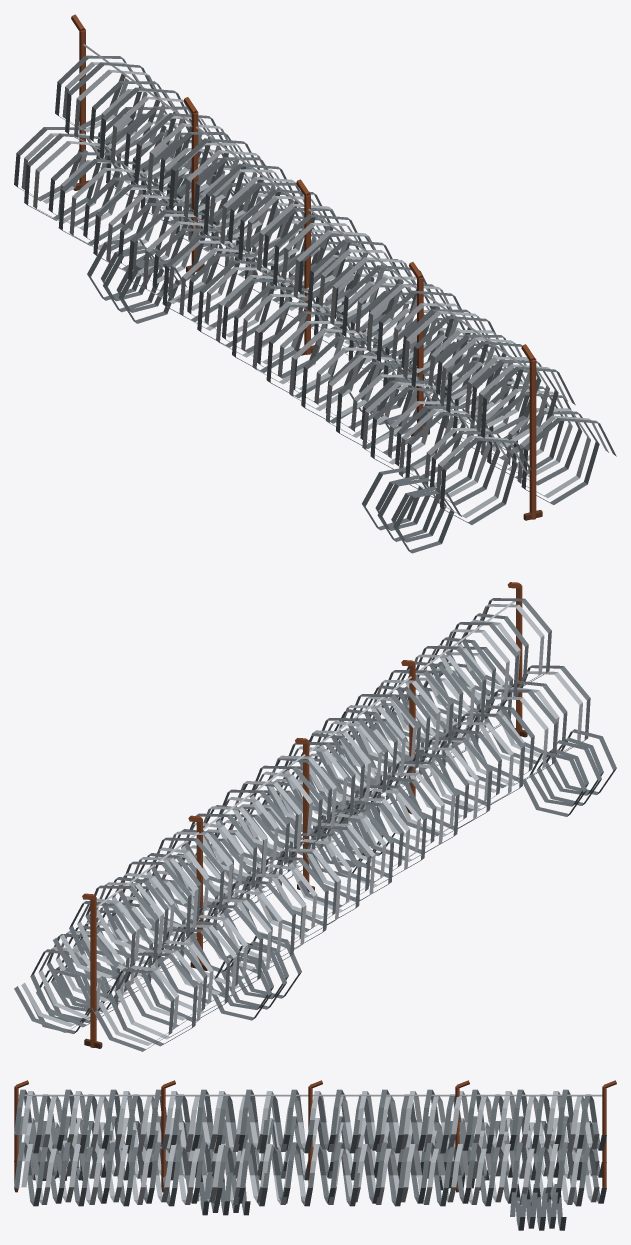
Rendered from razor_wire.glb.
3 views of the same model, one above another, from view 1: azimuth 30°, elevation 25°; view 2: azimuth 150°, elevation 25°; view 3: azimuth 270°, elevation 25° (orthographic). The views are drawn at different scales.
Visible parts, largest first — view 1: razor_wire; view 2: razor_wire; view 3: razor_wire.
Boxes of the visible parts, x1,y1,x2,y2 form: razor_wire: (14,14,616,553); razor_wire: (14,582,616,1051); razor_wire: (14,1080,616,1230).
Size of the model in its own units: 2.23 by 1.87 by 8.21.
3 materials, 3 textured.
